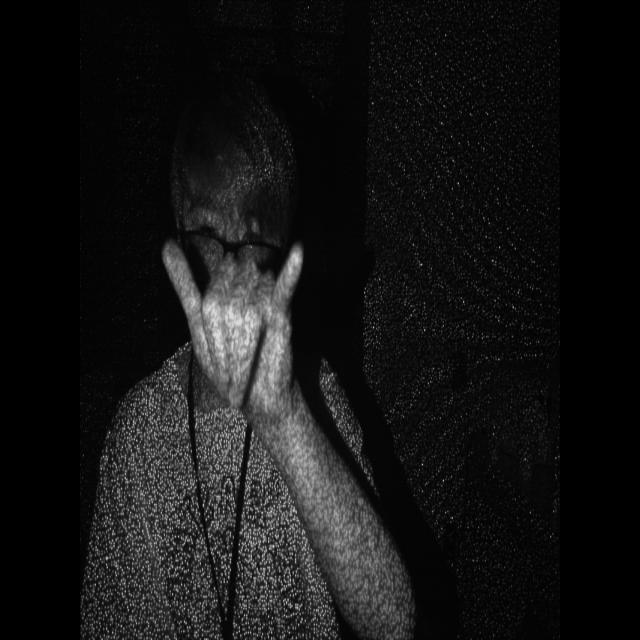Y: (155, 226, 319, 424)
